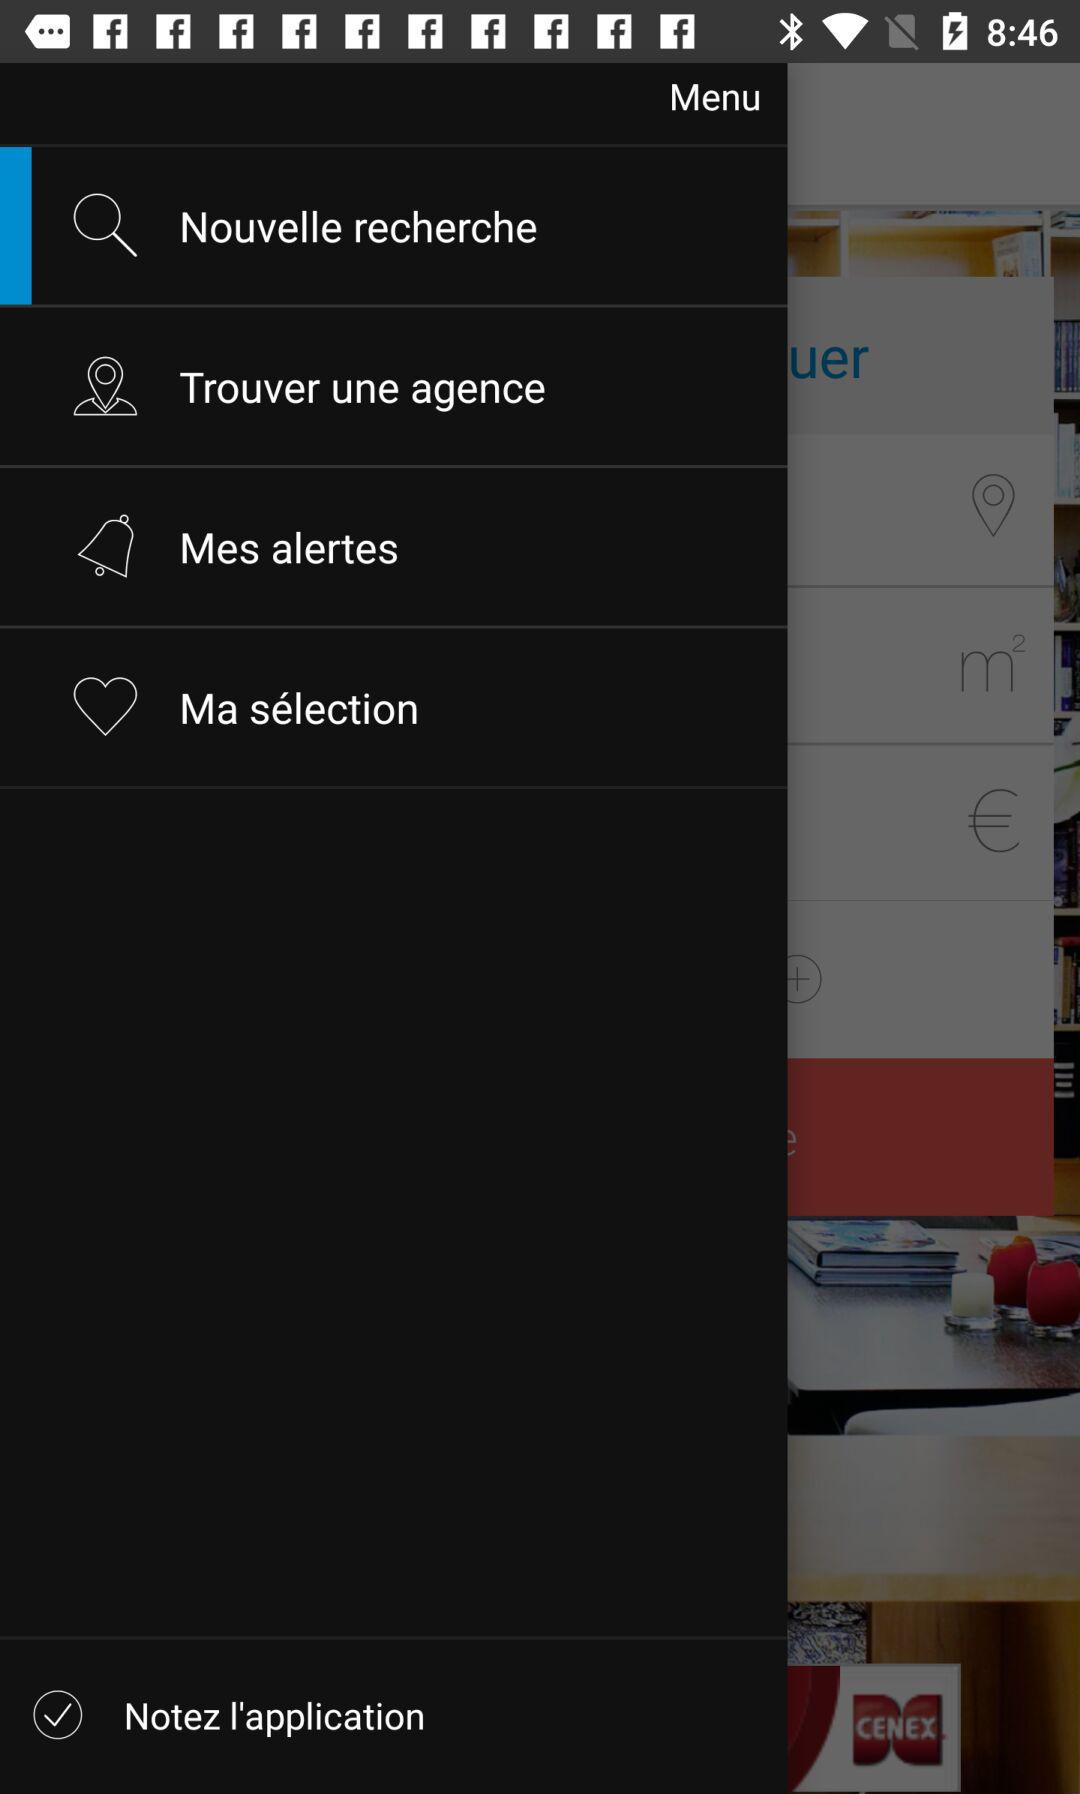CheckedTextView: (32, 1689, 425, 1741)
Drawer: (1, 64, 788, 1794)
Icon: (73, 192, 140, 260), (73, 675, 138, 739), (74, 355, 138, 419), (77, 513, 136, 580)
Text: (179, 372, 547, 415), (181, 209, 539, 247), (126, 1699, 425, 1741), (181, 689, 419, 727), (181, 531, 400, 566), (671, 83, 761, 114)
UpperTaskBar: (1, 1, 1080, 64)
